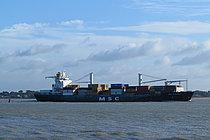Ship: (31, 67, 197, 104)
